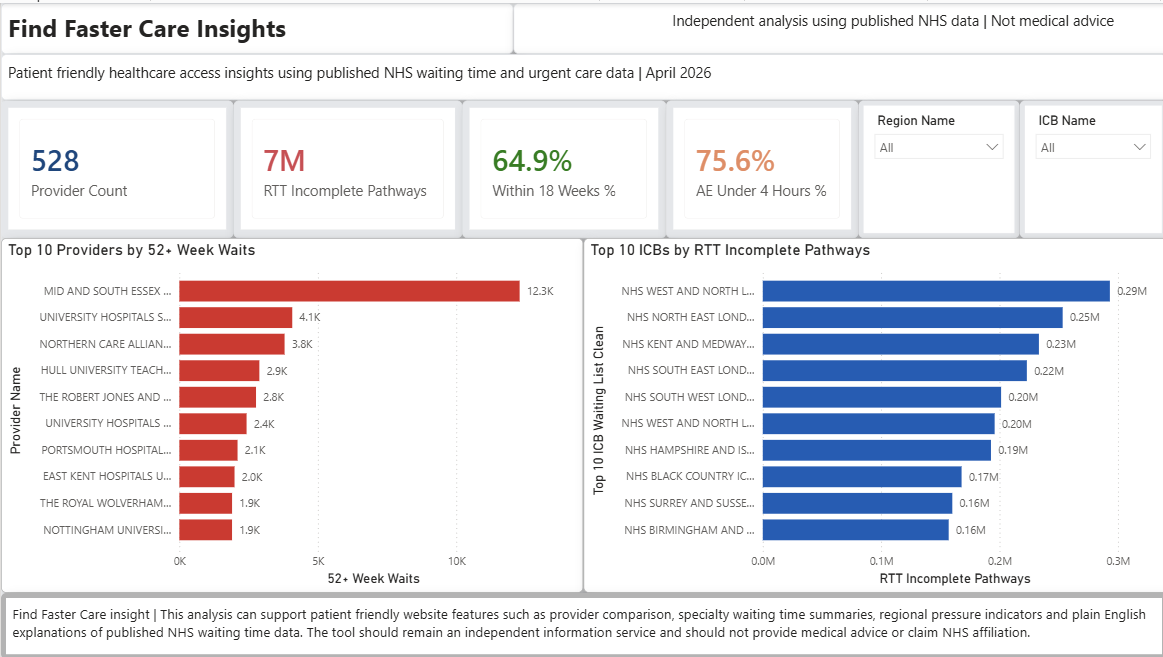

Layout of this report page (visuals, bound fields, positions):
{"tool":"powerbi","page":{"name":"Find Faster Care Insights","canvas":[1280,720],"ordinal":3},"visuals":[{"type":"textbox","box":[0,0,562.6,56.3],"z":0},{"type":"textbox","box":[562.3,0,717.7,56.3],"z":1000},{"type":"textbox","box":[0,56.3,1280.3,50.8],"z":2000},{"type":"cardVisual","fields":{"Data":["Key Measures.Provider Count"]},"box":[0,107,255.2,150.9],"z":3000},{"type":"cardVisual","fields":{"Data":["Key Measures.Total Waiting List"]},"box":[255.2,107,251.1,150.9],"z":4000},{"type":"cardVisual","fields":{"Data":["Key Measures.Within 18 Weeks %"]},"box":[506.3,107,223.7,150.9],"z":5000},{"type":"cardVisual","fields":{"Data":["Key Measures.AE Under 4 Hours %"]},"box":[730,107,211.3,150.9],"z":6000},{"type":"slicer","fields":{"Values":["Provider Pressure.region_name"]},"box":[941.3,107,177,150.9],"z":7000},{"type":"slicer","fields":{"Values":["Provider Pressure.icb_name"]},"box":[1118.4,107,161.9,150.9],"z":8000},{"type":"clusteredBarChart","title":"Top 10 Providers by 52+ Week Waits","fields":{"Y":["Sum(Provider Pressure.total_52_plus_weeks)"],"Category":["Provider Pressure.provider_name"]},"box":[0,258,639.5,389.7],"z":9000},{"type":"clusteredBarChart","title":"Top 10 ICBs by RTT Incomplete Pathways","fields":{"Category":["Top 10 ICB Waiting List.icb_name"],"Y":["Sum(Top 10 ICB Waiting List.total_incomplete_pathways)"]},"box":[639.5,258,640.8,389.7],"z":10000},{"type":"textbox","box":[0,647.7,1280.3,72.7],"z":11000}]}

Visuals, with their boxes in screenshot pixels (x1, y1, x2, y2), scaled from the page's 1280x720 canvas onto the 1163x657 screenshot:
textbox: (left=0, top=0, right=511, bottom=51)
textbox: (left=511, top=0, right=1162, bottom=51)
textbox: (left=0, top=51, right=1162, bottom=98)
cardVisual - Key Measures.Provider Count: (left=0, top=98, right=232, bottom=235)
cardVisual - Key Measures.Total Waiting List: (left=232, top=98, right=460, bottom=235)
cardVisual - Key Measures.Within 18 Weeks %: (left=460, top=98, right=663, bottom=235)
cardVisual - Key Measures.AE Under 4 Hours %: (left=663, top=98, right=855, bottom=235)
slicer - Provider Pressure.region_name: (left=855, top=98, right=1016, bottom=235)
slicer - Provider Pressure.icb_name: (left=1016, top=98, right=1162, bottom=235)
"Top 10 Providers by 52+ Week Waits" clusteredBarChart: (left=0, top=235, right=581, bottom=591)
"Top 10 ICBs by RTT Incomplete Pathways" clusteredBarChart: (left=581, top=235, right=1162, bottom=591)
textbox: (left=0, top=591, right=1162, bottom=656)
